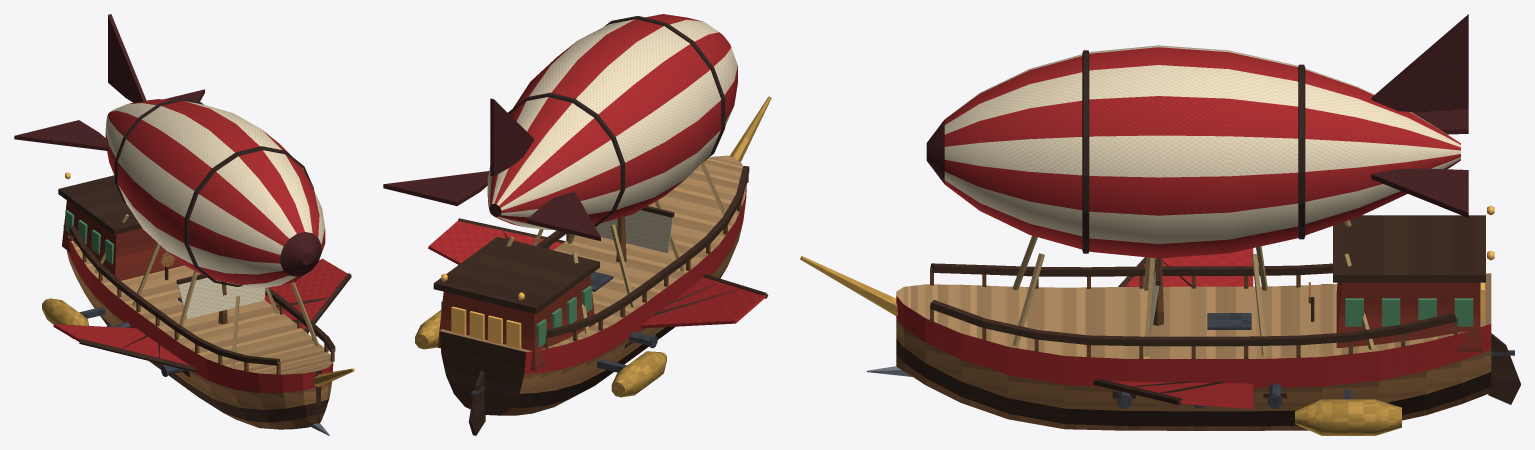
File: SM_Ship_Brigantine_HQ.glb
3 views of the same model, side by side, from view 1: azimuth 30°, elevation 25°; view 2: azimuth 150°, elevation 25°; view 3: azimuth 270°, elevation 25° (orthographic). The views are drawn at different scales.
Parts seen in each view (by area): view 1: SM_Ship_Brigantine_HQ; view 2: SM_Ship_Brigantine_HQ; view 3: SM_Ship_Brigantine_HQ.
Boxes of the visible parts, x1,y1,x2,y2 form: SM_Ship_Brigantine_HQ: [14, 14, 354, 435]; SM_Ship_Brigantine_HQ: [383, 14, 771, 435]; SM_Ship_Brigantine_HQ: [800, 14, 1520, 435].
Size of the model in its own units: 11.57 by 12.03 by 19.39.
Materials: 1 (1 with a texture image).
